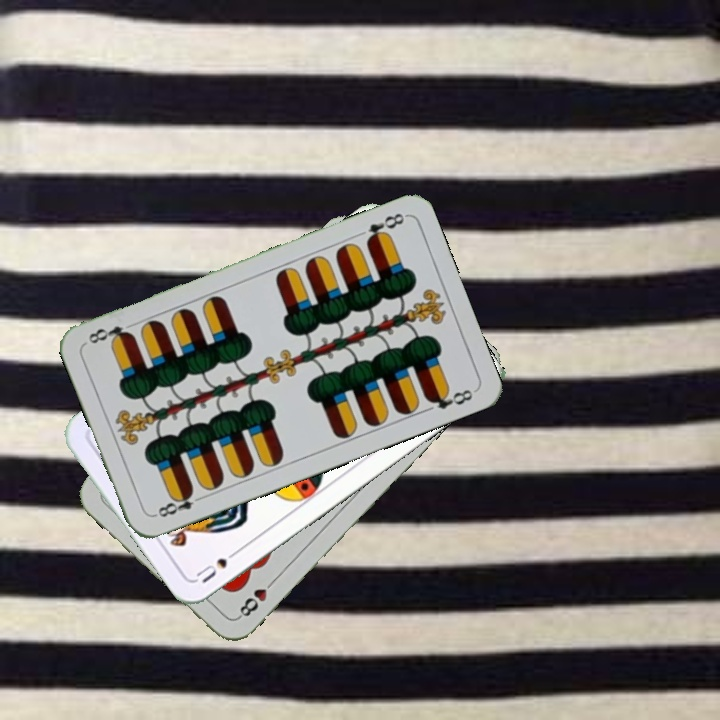E8: (150, 485, 207, 520), (362, 209, 408, 247)
H8: (234, 574, 279, 621)
SU: (192, 543, 244, 586)
